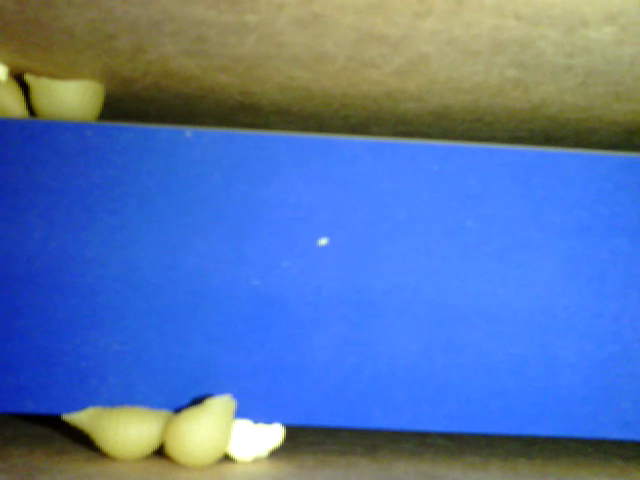shell: (59, 404, 178, 461), (163, 394, 236, 469), (20, 73, 107, 124)
